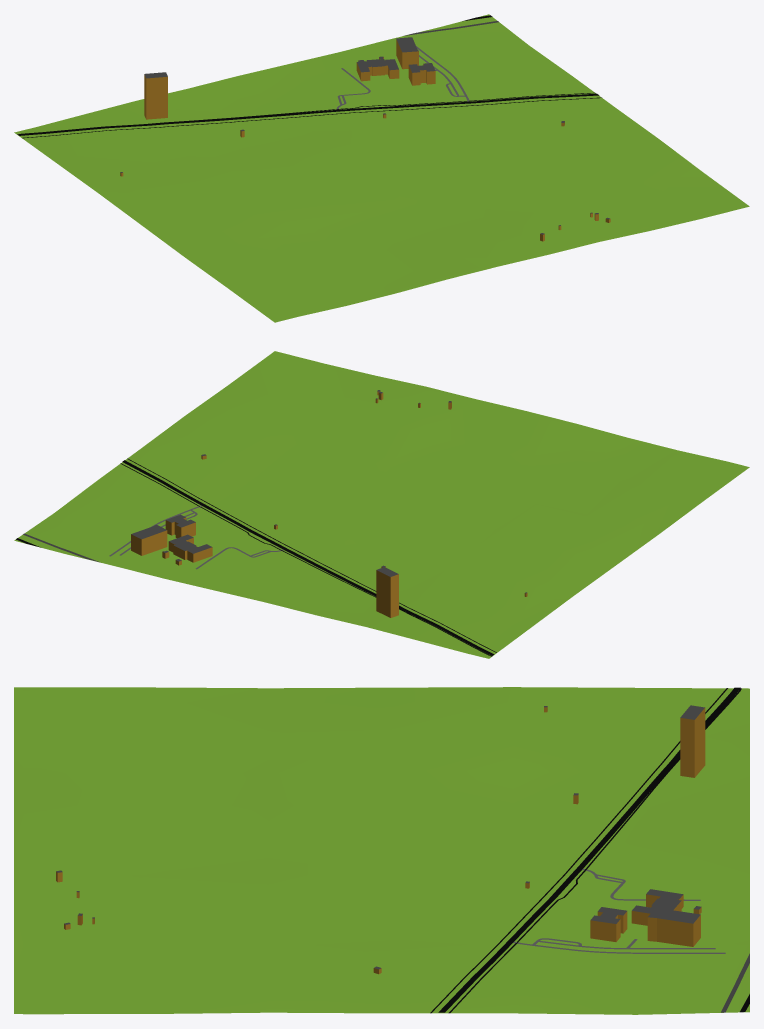
File: tile_10_02.glb
The picture shows the model from 3 angles, top to bottom: view 1: azimuth 30°, elevation 25°; view 2: azimuth 150°, elevation 25°; view 3: azimuth 270°, elevation 25°; orthographic projection. The views are drawn at different scales.
Parts seen in each view (by area): view 1: Terrain_10_02, Ub_small.osm_buildings_10_02, Ub_small.osm_roads_secondary_10_02, Ub_small.osm_paths_footway_10_02, Ub_small.osm_roads_service_10_02; view 2: Terrain_10_02, Ub_small.osm_buildings_10_02, Ub_small.osm_roads_secondary_10_02, Ub_small.osm_paths_cycleway_10_02; view 3: Terrain_10_02, Ub_small.osm_buildings_10_02, Ub_small.osm_roads_secondary_10_02, Ub_small.osm_roads_service_10_02, Ub_small.osm_paths_cycleway_10_02, Ub_small.osm_paths_footway_10_02.
Boxes of the visible parts, x1,y1,x2,y2 form: Terrain_10_02: (14, 14, 749, 322); Ub_small.osm_buildings_10_02: (120, 37, 610, 241); Ub_small.osm_roads_secondary_10_02: (17, 93, 599, 135); Ub_small.osm_paths_footway_10_02: (22, 97, 601, 138); Ub_small.osm_roads_service_10_02: (336, 46, 469, 109); Terrain_10_02: (14, 351, 749, 658); Ub_small.osm_buildings_10_02: (131, 390, 527, 617); Ub_small.osm_roads_secondary_10_02: (122, 460, 494, 655); Ub_small.osm_paths_cycleway_10_02: (120, 463, 492, 656); Terrain_10_02: (14, 687, 749, 1014); Ub_small.osm_buildings_10_02: (56, 705, 705, 974); Ub_small.osm_roads_secondary_10_02: (438, 687, 740, 1012); Ub_small.osm_roads_service_10_02: (513, 868, 725, 953); Ub_small.osm_paths_cycleway_10_02: (448, 688, 741, 1013); Ub_small.osm_paths_footway_10_02: (430, 688, 727, 1013).
Size of the model in its own units: 978 by 84.33 by 930.
